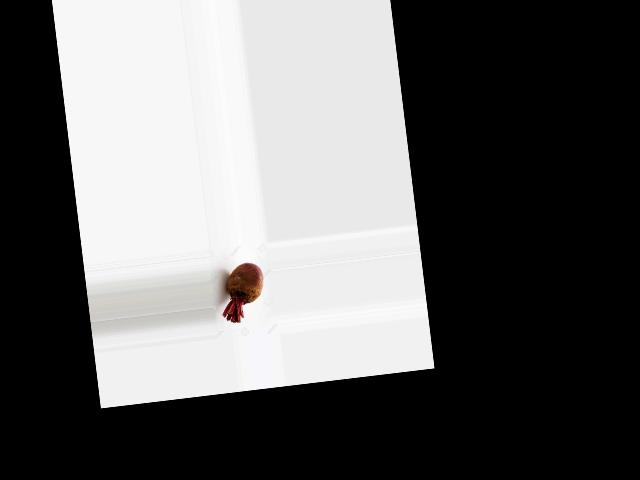beet: (216, 260, 268, 324)
